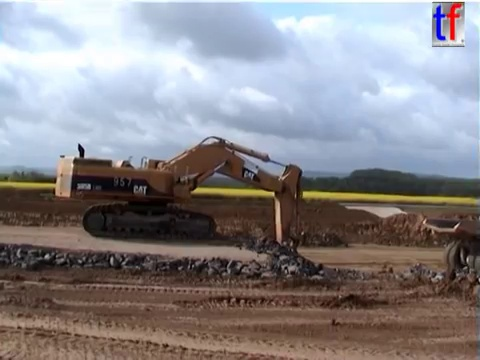excavator: (52, 133, 309, 281)
truck: (421, 215, 480, 282)
